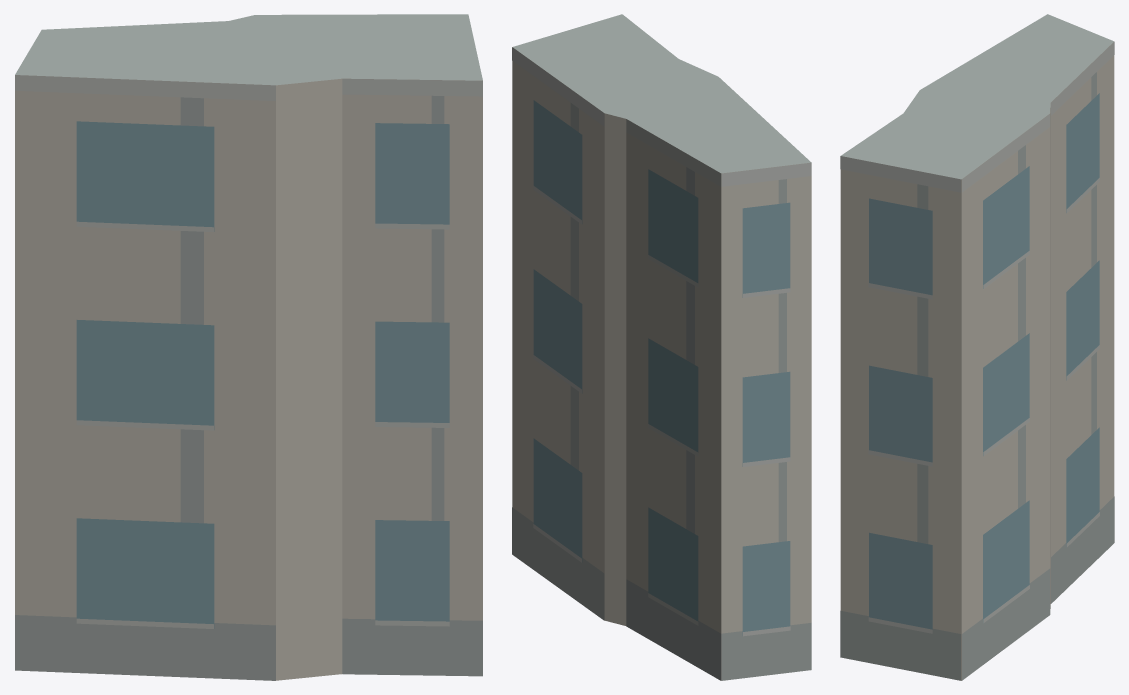
File: survey-upis-32971584.glb
The picture shows the model from 3 angles, left to right: view 1: azimuth 30°, elevation 25°; view 2: azimuth 150°, elevation 25°; view 3: azimuth 270°, elevation 25°; orthographic projection. The views are drawn at different scales.
Visible parts, largest first — view 1: survey-upis-32971584.tmp; view 2: survey-upis-32971584.tmp; view 3: survey-upis-32971584.tmp.
Boxes of the visible parts, bbox=[...] form: survey-upis-32971584.tmp: bbox=[15, 14, 482, 680]; survey-upis-32971584.tmp: bbox=[512, 14, 811, 680]; survey-upis-32971584.tmp: bbox=[840, 14, 1114, 680].
Size of the model in its own units: 6.48 by 9.15 by 4.54.
